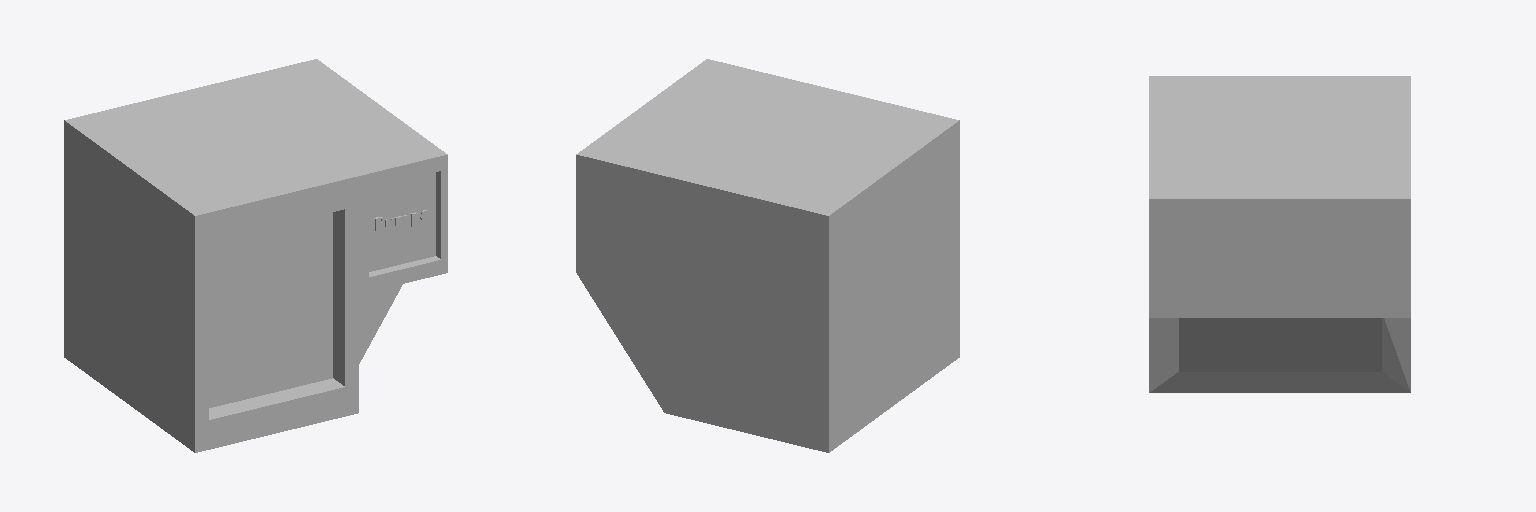
The model's file is Display.obj.
3 views of the same model, side by side, from view 1: azimuth 30°, elevation 25°; view 2: azimuth 150°, elevation 25°; view 3: azimuth 270°, elevation 25° (orthographic).
Visible parts, largest first — view 1: Display_Cube.004; view 2: Display_Cube.004; view 3: Display_Cube.004.
Part boxes in pixels (x1,y1,x2,y2): Display_Cube.004: (64,59,447,452); Display_Cube.004: (576,59,959,452); Display_Cube.004: (1149,76,1410,392).
Size of the model in its own units: 0.8913 by 0.8 by 0.8.